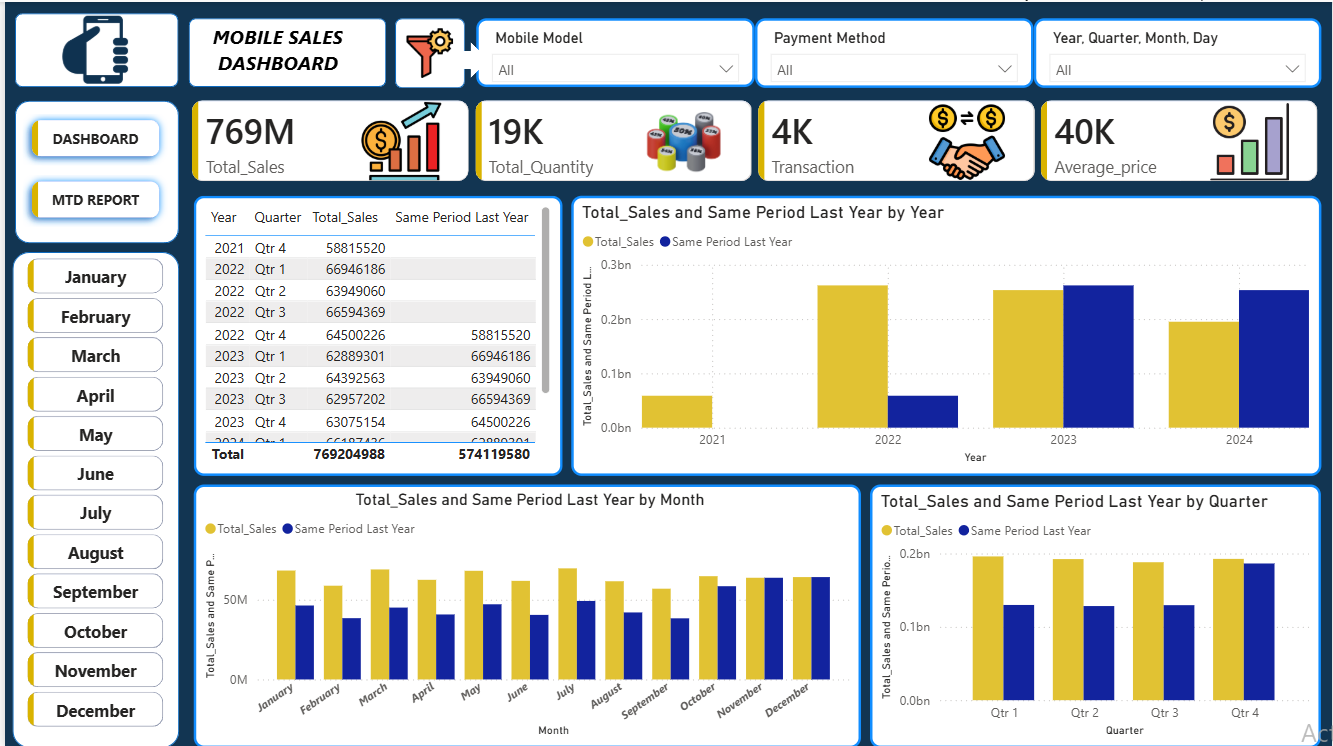

This screenshot's page, from the dashboard's own definition file:
{"tool":"powerbi","page":{"name":"Same Period Last Year","canvas":[1280,720],"ordinal":2},"visuals":[{"type":"shape","box":[9.6,11,157.8,71.4],"z":0},{"type":"image","box":[52.1,13.7,70,65.9],"z":1000},{"type":"shape","box":[9.6,94.9,158.1,137.5],"z":2000},{"type":"cardVisual","fields":{"Data":["Mobile_Sales_Data.Total_Sales","Mobile_Sales_Data.Total_Quantity","Mobile_Sales_Data.Transaction","Mobile_Sales_Data.Average_price"]},"box":[167.7,82,1112.3,105],"z":3000},{"type":"slicer","fields":{"Values":["Mobile_Sales_Data.Mobile Model"]},"box":[454.8,15.7,269,66.4],"z":4000},{"type":"slicer","fields":{"Values":["Mobile_Sales_Data.Payment Method"]},"box":[723.9,15.7,269,67.6],"z":5000},{"type":"slicer","fields":{"Values":["custom_calender.Date.Variation.Date Hierarchy.Year","custom_calender.Date.Variation.Date Hierarchy.Quarter","custom_calender.Date.Variation.Date Hierarchy.Month","custom_calender.Date.Variation.Date Hierarchy.Day"]},"box":[992.9,15.7,277.5,67.6],"z":6000},{"type":"shape","box":[376.4,15.7,67.6,67.6],"z":7000},{"type":"image","box":[376.4,25.3,67.6,48.3],"z":8000},{"type":"shape","box":[428.3,38.6,38.6,35],"z":9000},{"type":"shape","box":[177.3,15.7,190.6,66.4],"z":10000},{"type":"textbox","box":[195.4,15.7,172.5,63.9],"z":11000},{"type":"shape","box":[6.9,241.4,160.9,478.6],"z":13000},{"type":"advancedSlicerVisual","fields":{"Values":["custom_calender.Date.Variation.Date Hierarchy.Month"]},"box":[16.5,242,141.6,466.2],"z":14000},{"type":"tableEx","fields":{"Values":["custom_calender.Date.Variation.Date Hierarchy.Year","custom_calender.Date.Variation.Date Hierarchy.Quarter","Mobile_Sales_Data.Total_Sales","Mobile_Sales_Data.Same Period Last Year"]},"box":[182.2,187,355.9,270.2],"z":14001},{"type":"clusteredColumnChart","fields":{"Category":["custom_calender.Date.Variation.Date Hierarchy.Year","custom_calender.Date.Variation.Date Hierarchy.Quarter"],"Y":["Mobile_Sales_Data.Total_Sales","Mobile_Sales_Data.Same Period Last Year"]},"box":[546.5,187,723.9,270.2],"z":14002},{"type":"clusteredColumnChart","fields":{"Y":["Mobile_Sales_Data.Total_Sales","Mobile_Sales_Data.Same Period Last Year"],"Category":["custom_calender.Date.Variation.Date Hierarchy.Month","custom_calender.Date.Variation.Date Hierarchy.Day"]},"box":[182.2,465.7,644.2,254.6],"z":14003},{"type":"clusteredColumnChart","fields":{"Category":["custom_calender.Date.Variation.Date Hierarchy.Year","custom_calender.Date.Variation.Date Hierarchy.Quarter"],"Y":["Mobile_Sales_Data.Total_Sales","Mobile_Sales_Data.Same Period Last Year"]},"box":[834.9,465.7,435.5,254.6],"z":14004},{"type":"pageNavigator","box":[16.9,105,141.2,112.2],"z":14005}]}

Visuals, with their boxes in screenshot pixels (x1, y1, x2, y2), scaled from the page's 1280x720 canvas onto the 1333x746 screenshot:
shape: region(10, 11, 174, 85)
image: region(54, 14, 127, 82)
shape: region(10, 98, 175, 241)
cardVisual - Mobile_Sales_Data.Total_Sales x Mobile_Sales_Data.Total_Quantity: region(175, 85, 1332, 194)
slicer - Mobile_Sales_Data.Mobile Model: region(474, 16, 754, 85)
slicer - Mobile_Sales_Data.Payment Method: region(754, 16, 1034, 86)
slicer - custom_calender.Date.Variation.Date Hierarchy.Year x custom_calender.Date.Variation.Date Hierarchy.Quarter: region(1034, 16, 1323, 86)
shape: region(392, 16, 462, 86)
image: region(392, 26, 462, 76)
shape: region(446, 40, 486, 76)
shape: region(185, 16, 383, 85)
textbox: region(203, 16, 383, 82)
shape: region(7, 250, 175, 745)
advancedSlicerVisual - custom_calender.Date.Variation.Date Hierarchy.Month: region(17, 251, 165, 734)
tableEx - custom_calender.Date.Variation.Date Hierarchy.Year x custom_calender.Date.Variation.Date Hierarchy.Quarter: region(190, 194, 560, 474)
clusteredColumnChart - custom_calender.Date.Variation.Date Hierarchy.Year x custom_calender.Date.Variation.Date Hierarchy.Quarter: region(569, 194, 1323, 474)
clusteredColumnChart - Mobile_Sales_Data.Total_Sales x Mobile_Sales_Data.Same Period Last Year: region(190, 483, 861, 745)
clusteredColumnChart - custom_calender.Date.Variation.Date Hierarchy.Year x custom_calender.Date.Variation.Date Hierarchy.Quarter: region(869, 483, 1323, 745)
pageNavigator: region(18, 109, 165, 225)
